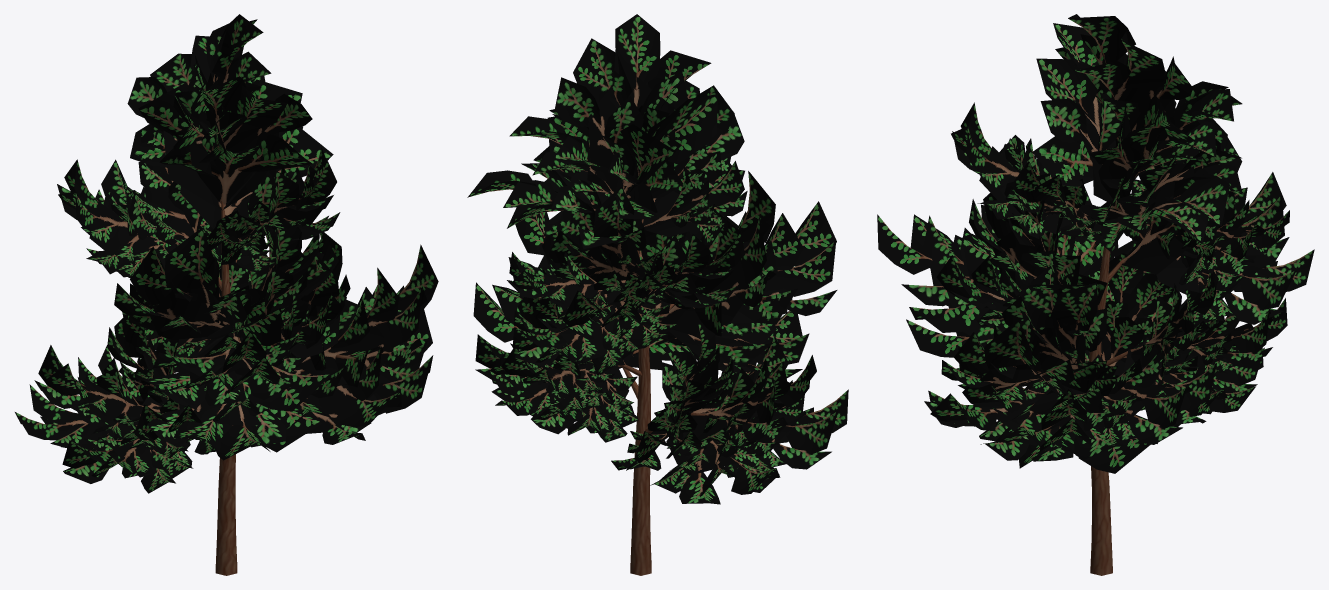
The model's file is tree.fbx.
The picture shows the model from 3 angles, left to right: view 1: azimuth 30°, elevation 25°; view 2: azimuth 150°, elevation 25°; view 3: azimuth 270°, elevation 25°; orthographic projection. The views are drawn at different scales.
Visible parts, largest first — view 1: Plane; view 2: Plane; view 3: Plane.
Boxes of the visible parts, left/top/right/bottom form: Plane: left=15, top=14, right=438, bottom=575; Plane: left=467, top=14, right=848, bottom=575; Plane: left=877, top=14, right=1314, bottom=575.
Size of the model in its own units: 599 by 872 by 613.
